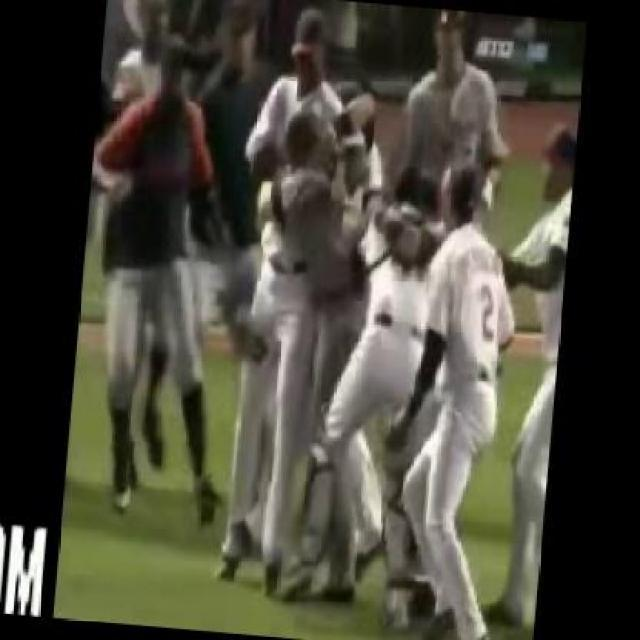fight: (208, 4, 398, 601)
